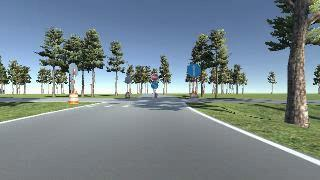go_ahead: (187, 63, 201, 76)
